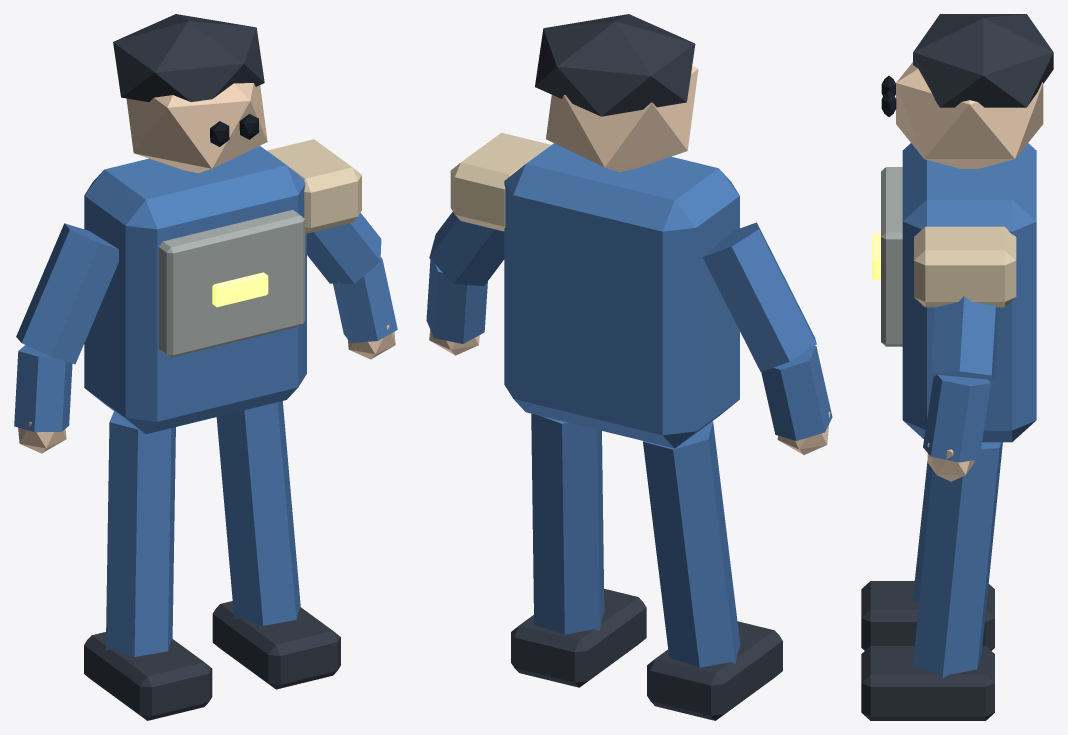
The model's file is npcs_027_seed78877.glb.
The picture shows the model from 3 angles, left to right: view 1: azimuth 30°, elevation 25°; view 2: azimuth 150°, elevation 25°; view 3: azimuth 270°, elevation 25°; orthographic projection. The views are drawn at different scales.
Visible parts, largest first — view 1: npcs_027_seed78877; view 2: npcs_027_seed78877; view 3: npcs_027_seed78877.
Part boxes in pixels (<box>): npcs_027_seed78877: <box>14,14,397,720</box>; npcs_027_seed78877: <box>426,14,832,720</box>; npcs_027_seed78877: <box>861,14,1053,720</box>.
Size of the model in its own units: 0.9756 by 1.58 by 0.4177.
